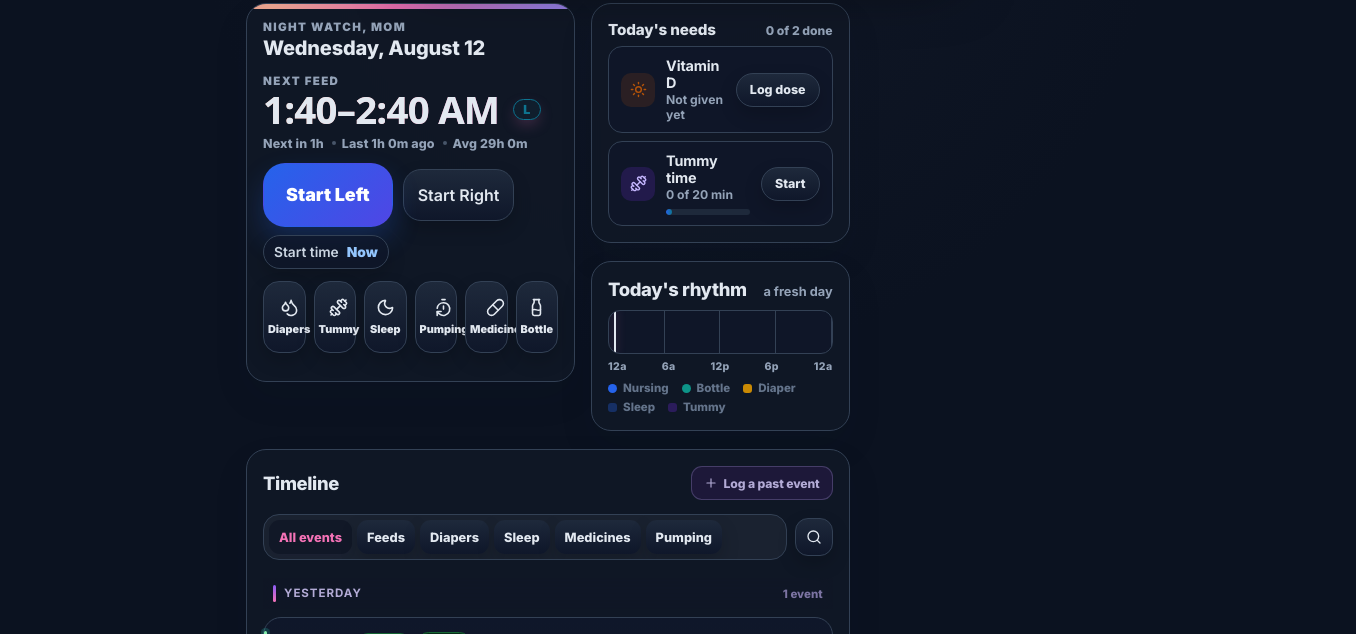
finding things in the timeline › still filters, and closing does not silently keep the filter hidden
Click the button named "Search and jump to a date" at point(814, 537), box [795,518,833,556]
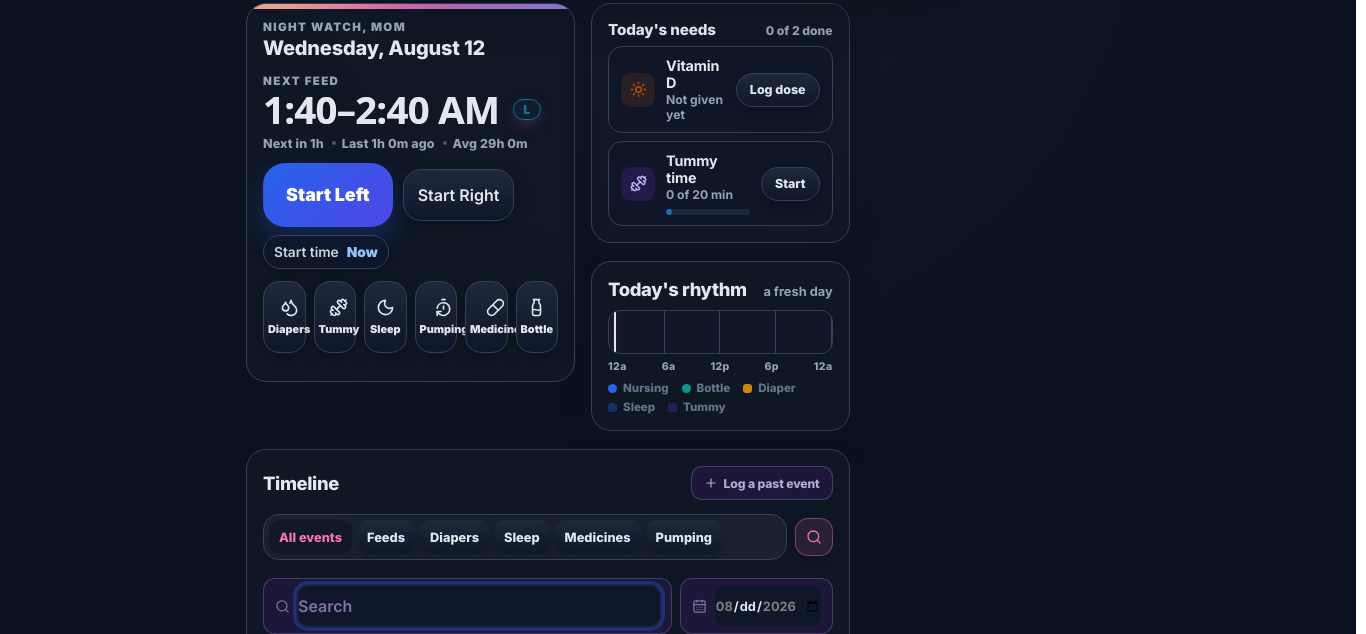
Type "burp" into the search field named "Search timeline" at point(479, 606), box [298,586,660,626]
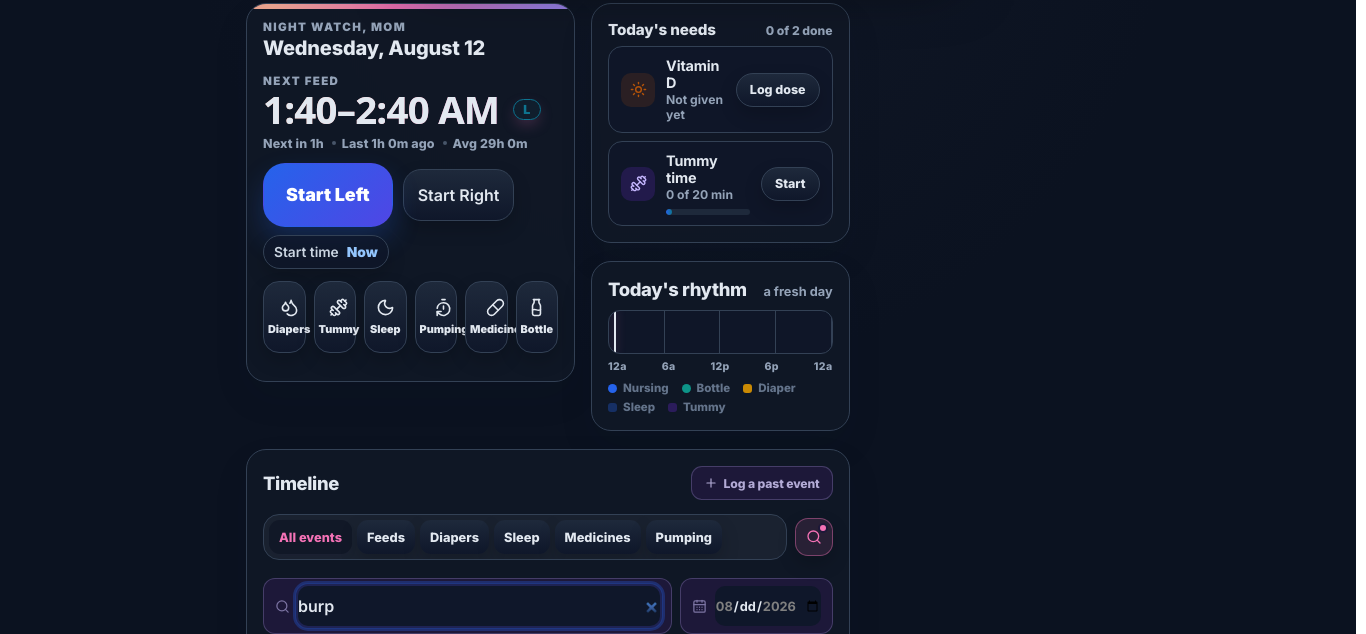
Note: Collapse it: the query is still on, so a chip says so and clears it.
Click the button named "Search and jump to a date" at point(814, 537), box [795,518,833,556]
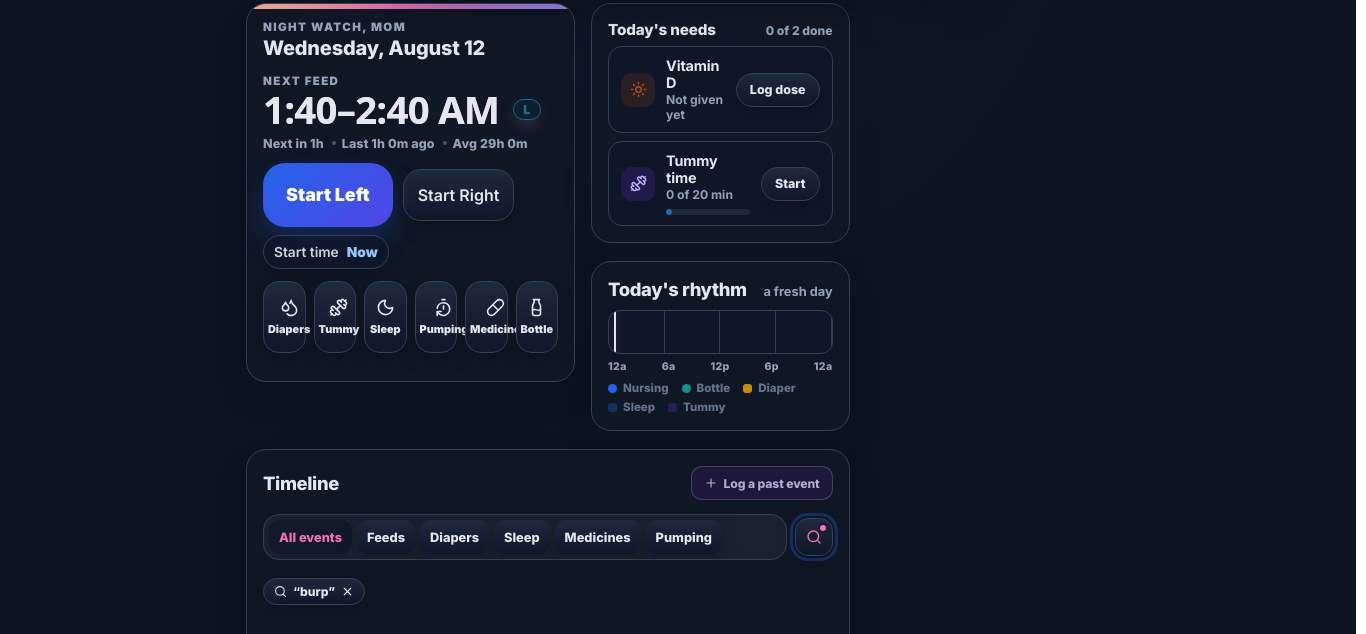
Expected: the text "sleepy feed" is not shown
Expected: the button with aria-label "Clear search for burp" is shown
Click the button with aria-label "Clear search for burp" at point(314, 592), box [263,578,365,605]
(page scrolled)
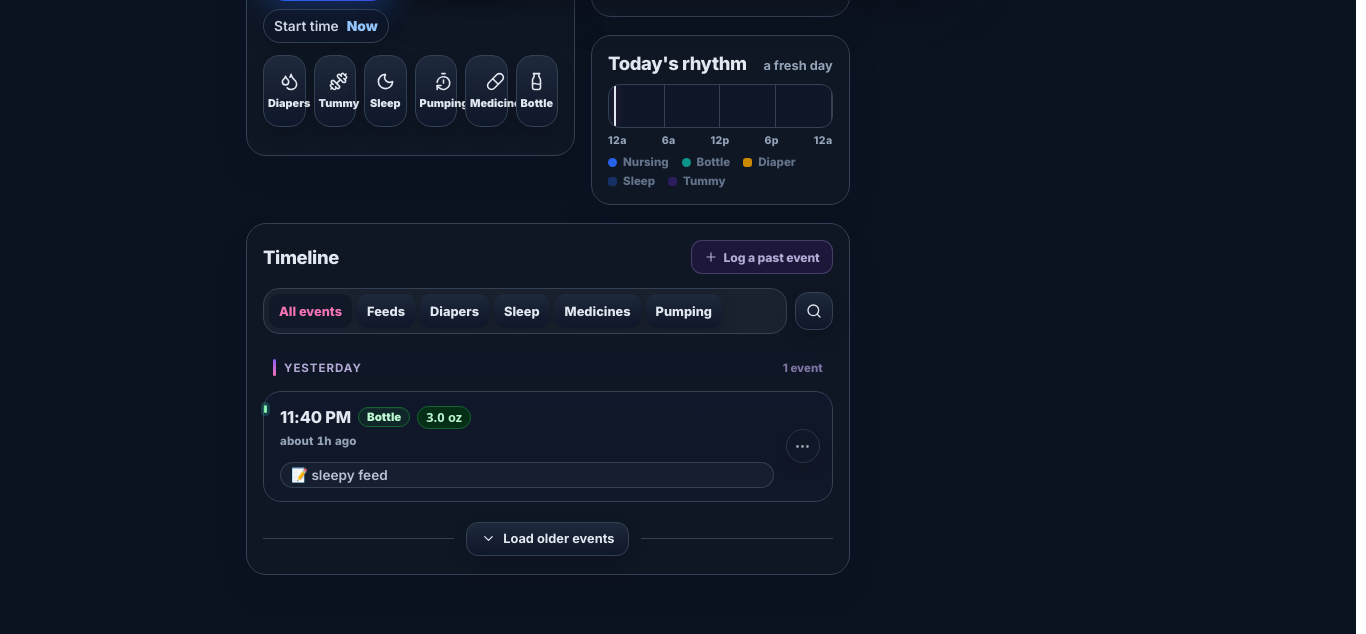
Expected: the text "📝 sleepy feed" is shown, [280,462,774,488]
